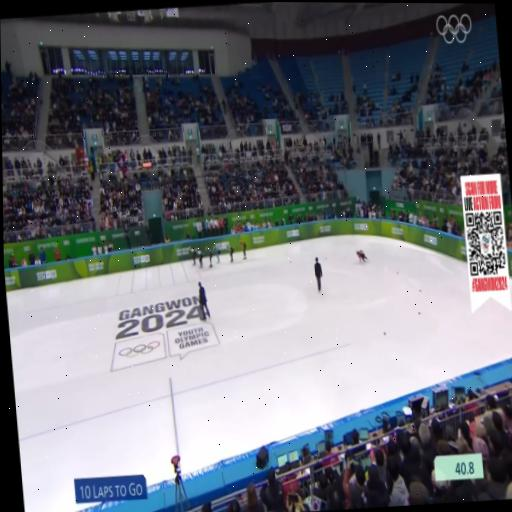Skater: (187, 244, 198, 267), (355, 249, 369, 266), (226, 244, 237, 265), (212, 245, 223, 265), (205, 245, 214, 268), (196, 246, 205, 269), (240, 239, 249, 261)
